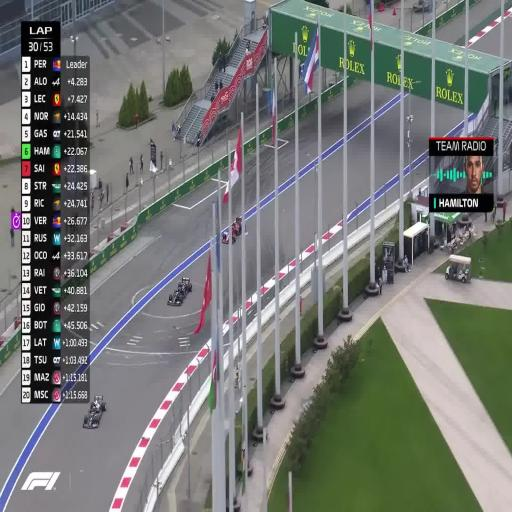f1_car: (83, 395, 105, 428), (167, 277, 192, 305), (221, 217, 242, 242)
